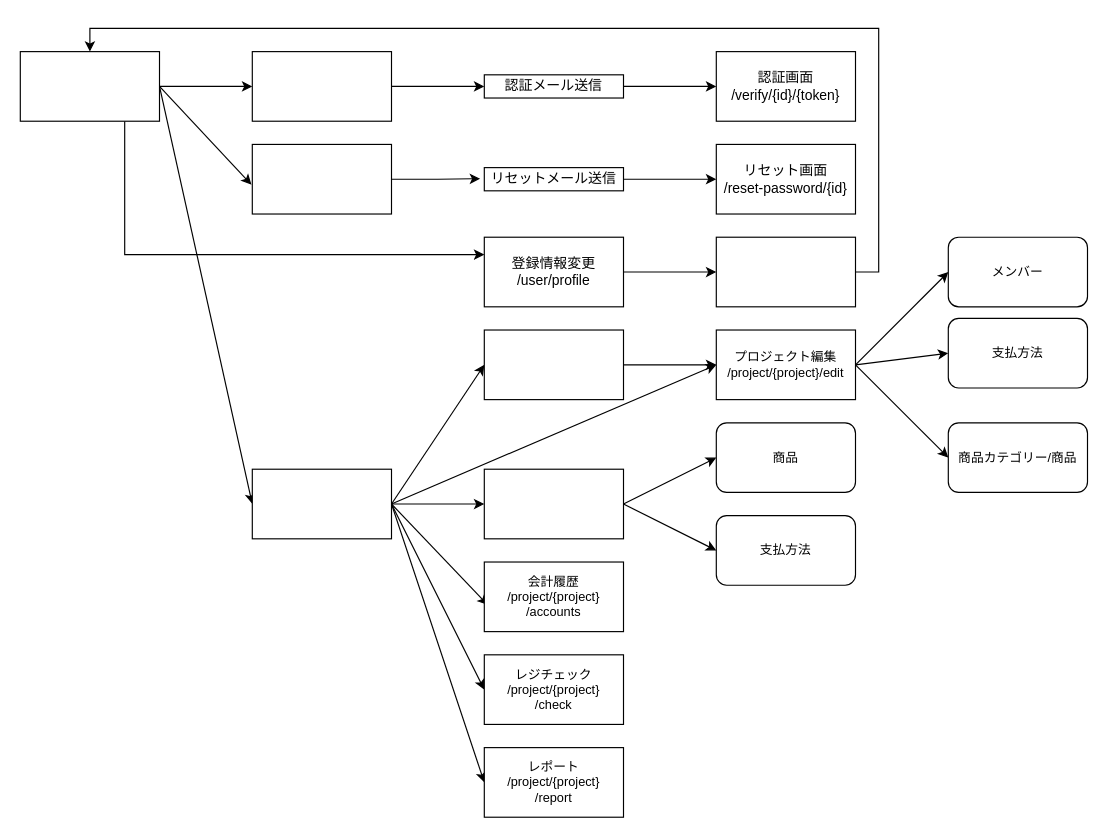
Some shapes in this 1108 by 838 pixel diagram are drawn without their labels. Here are the shapes that lost their labels. From the top down, the centre of each, then its label:
At pixel 89 85: "ログイン画面 /login".
At pixel 321 85: "ユーザー登録画面 /register".
At pixel 321 178: "パスワードリセット送信画面 /forgot-password".
At pixel 785 271: "ログアウト /logout".
At pixel 553 364: "プロジェクト作成 /project/new/edit".
At pixel 321 503: "プロジェクト一覧 /project".
At pixel 553 503: "会計登録 /project/{project} /account".
